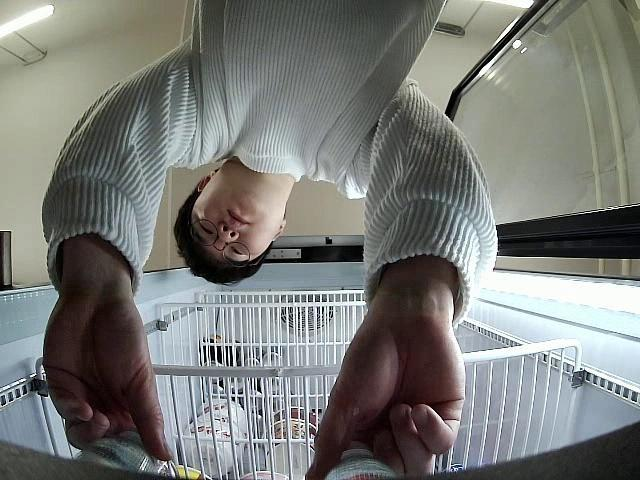18_trevi: (72, 429, 158, 480), (322, 446, 398, 480)
